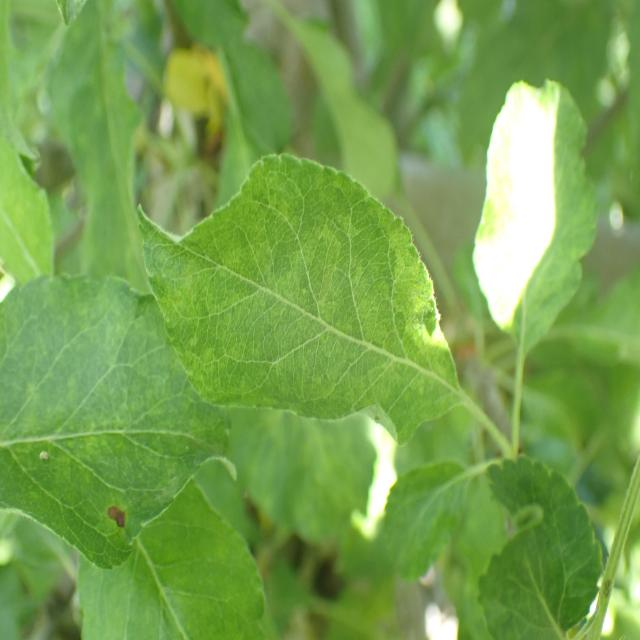scab: (181, 189, 453, 422), (2, 307, 184, 489)
